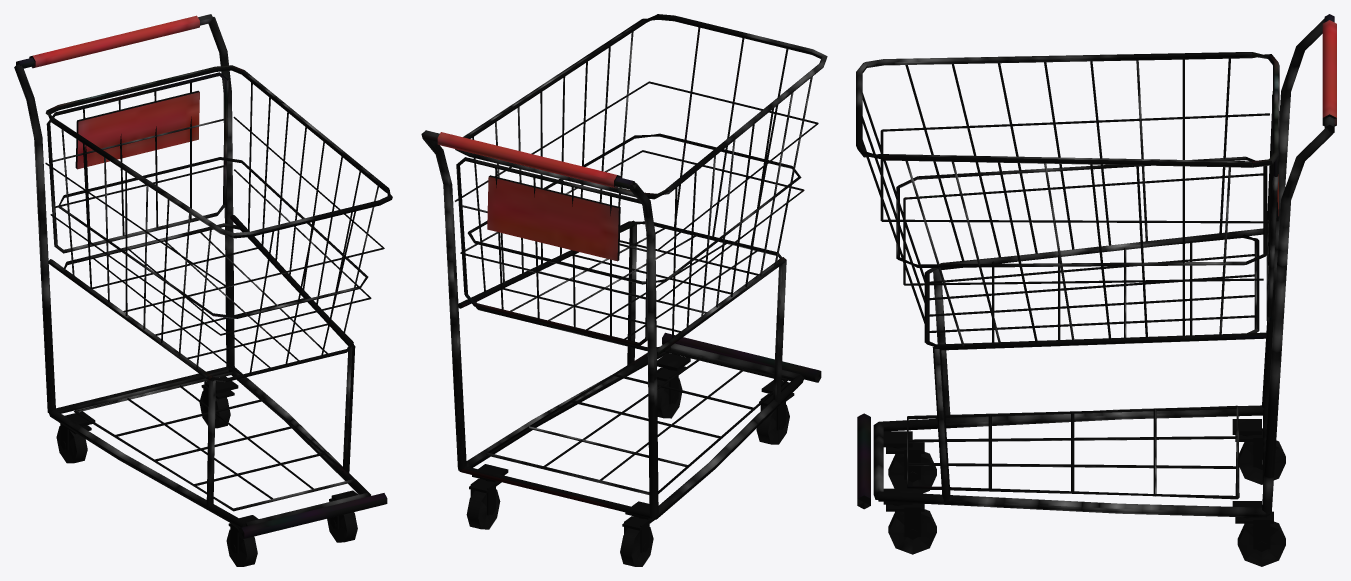
The model's file is cart_lod1_web.glb.
The picture shows the model from 3 angles, left to right: view 1: azimuth 30°, elevation 25°; view 2: azimuth 150°, elevation 25°; view 3: azimuth 270°, elevation 25°; orthographic projection. The views are drawn at different scales.
Visible parts, largest first — view 1: Cart_Body; view 2: Cart_Body; view 3: Cart_Body.
Part boxes in pixels (bbox=[...]): Cart_Body: bbox=[14, 14, 392, 566]; Cart_Body: bbox=[421, 14, 827, 566]; Cart_Body: bbox=[856, 14, 1336, 566].
Size of the model in its own units: 0.56 by 1.04 by 0.9914.
1 material, 1 textured.
